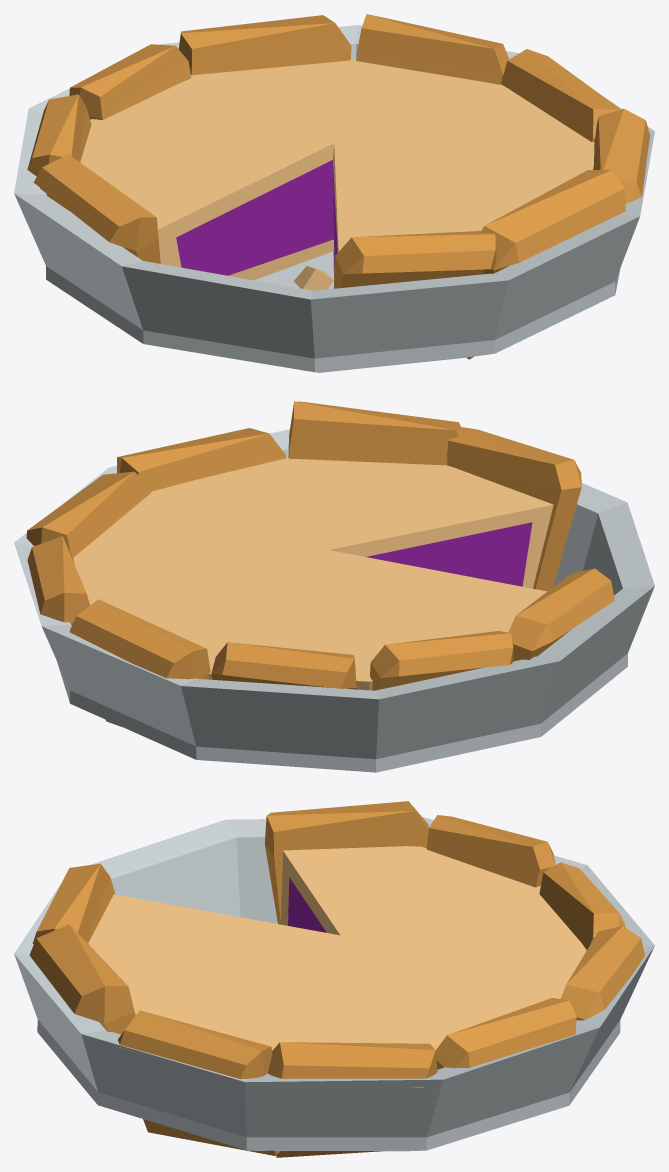
Rendered from Pie by Nick Slough - L8cn9tTBm2.glb.
3 renders of one model, top to bottom at view 1: azimuth 30°, elevation 25°; view 2: azimuth 150°, elevation 25°; view 3: azimuth 270°, elevation 25°, orthographic. The views are drawn at different scales.
Visible parts, largest first — view 1: Pie; view 2: Pie; view 3: Pie.
Part boxes in pixels (left/top/right/bottom): Pie: left=14, top=14, right=654, bottom=372; Pie: left=14, top=401, right=654, bottom=772; Pie: left=14, top=801, right=654, bottom=1157.
Bounding box in the file's own units: 0.4518 × 0.1214 × 0.47.
